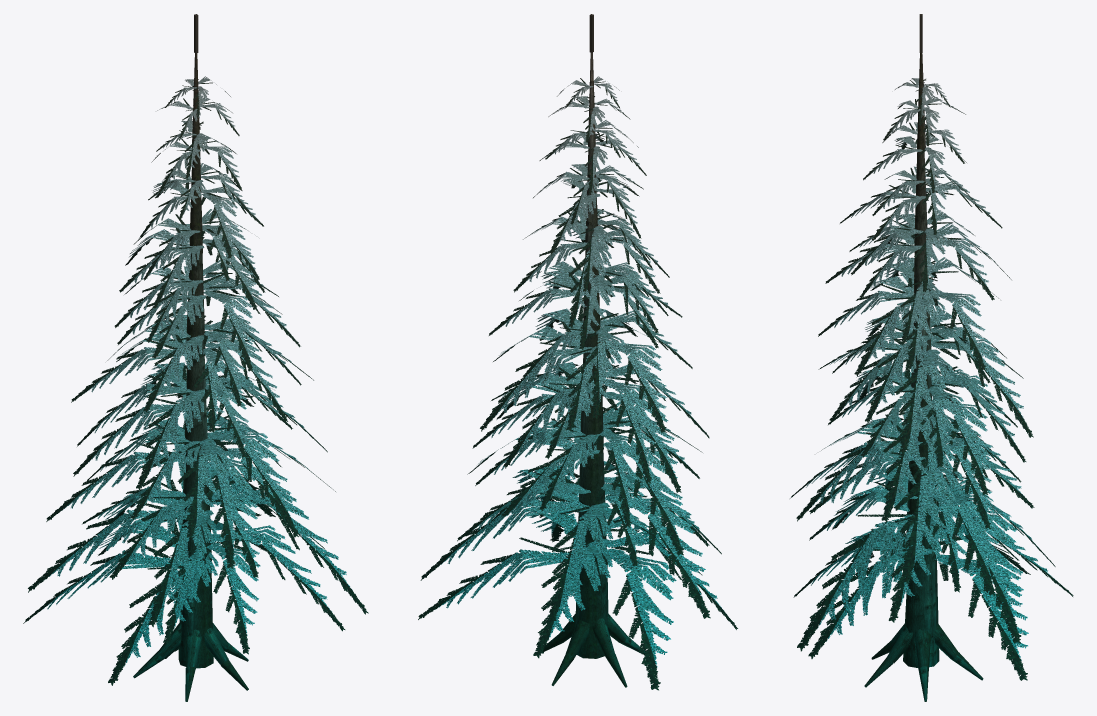
File: tree_pine_dark_snow.glb
3 views of the same model, side by side, from view 1: azimuth 30°, elevation 25°; view 2: azimuth 150°, elevation 25°; view 3: azimuth 270°, elevation 25° (orthographic).
Visible parts, largest first — view 1: tree_pine_dark_LOD0; view 2: tree_pine_dark_LOD0; view 3: tree_pine_dark_LOD0.
Part boxes in pixels (<box>): tree_pine_dark_LOD0: <box>23,14,368,701</box>; tree_pine_dark_LOD0: <box>418,14,737,690</box>; tree_pine_dark_LOD0: <box>790,14,1073,701</box>.
Size of what is drawn, in the model's own units: 6.66 by 14.02 by 5.95.
2 materials, 2 textured.
